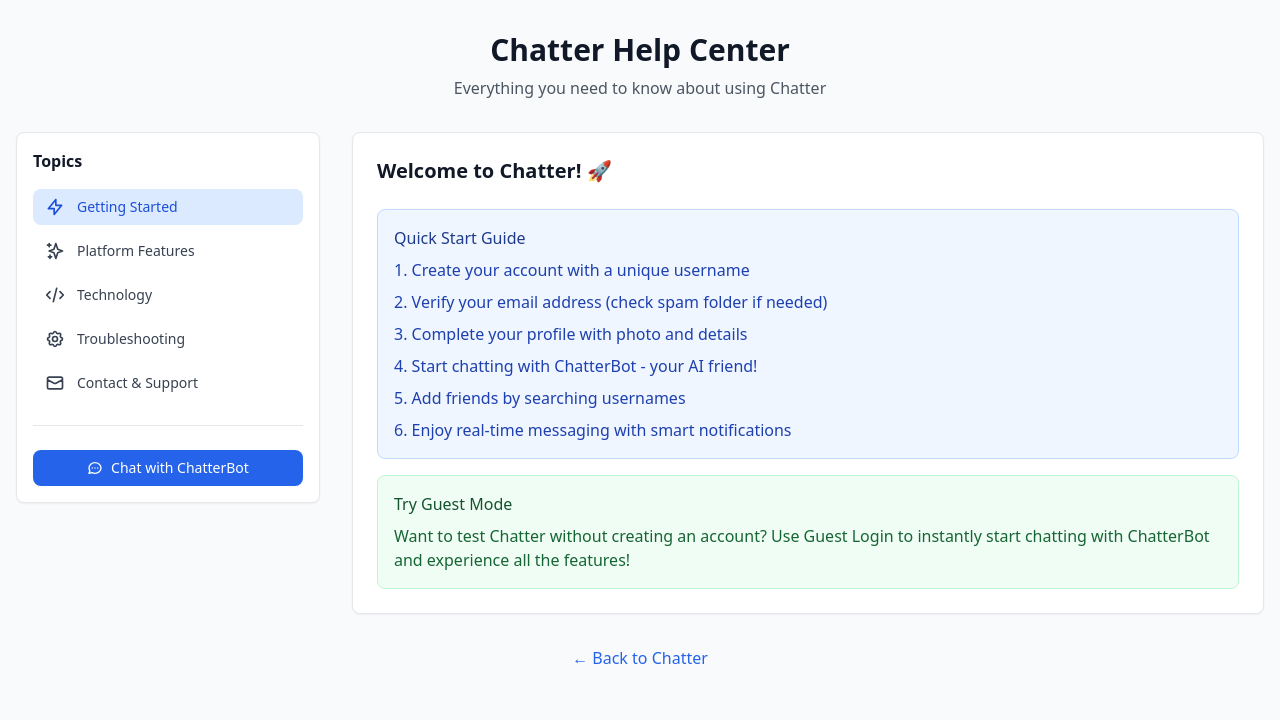
Scenario: HelpPage Component › Section Navigation › should switch to technology section when clicked
What coordinates should you click on to do the following:
click the button "Technology"
I would click on:
 (115, 294)
Its box is [33,277,303,313].
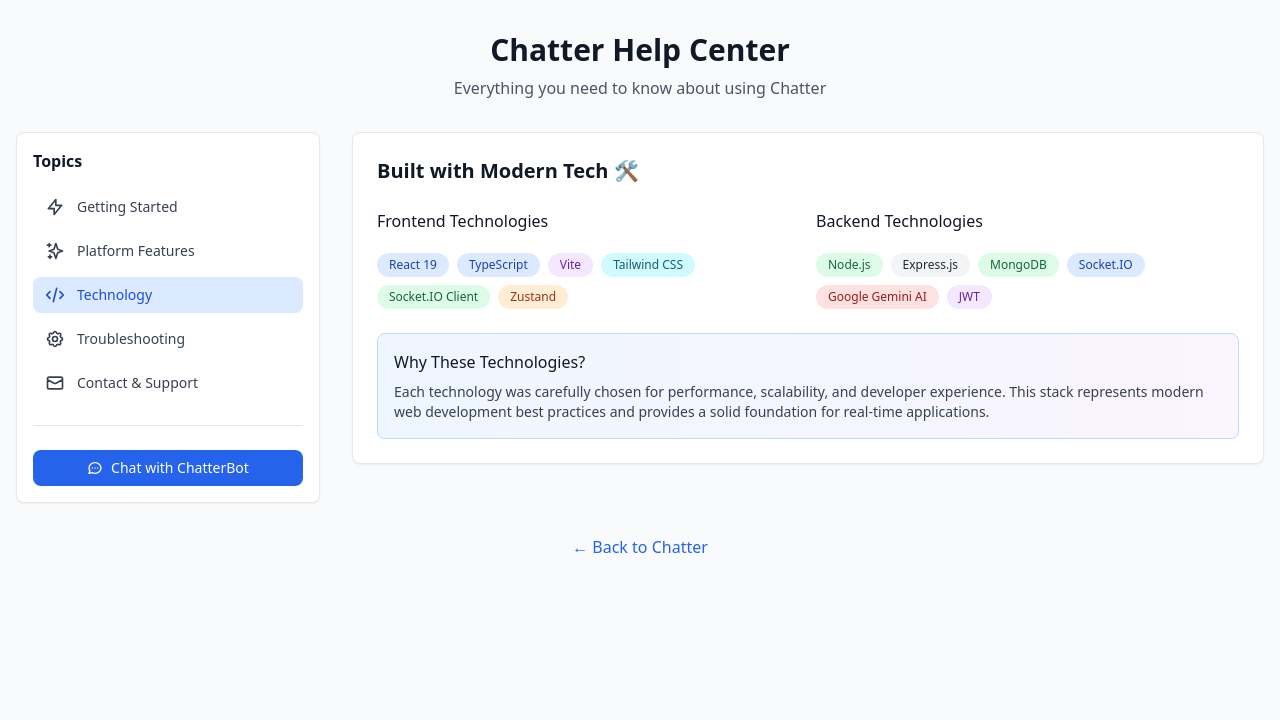
Now the heading "Built with Modern Tech 🛠️" is shown, box [377,157,639,184]
Now the heading "Frontend Technologies" is shown, box [377,210,548,232]
Now the heading "Backend Technologies" is shown, box [816,210,983,232]
